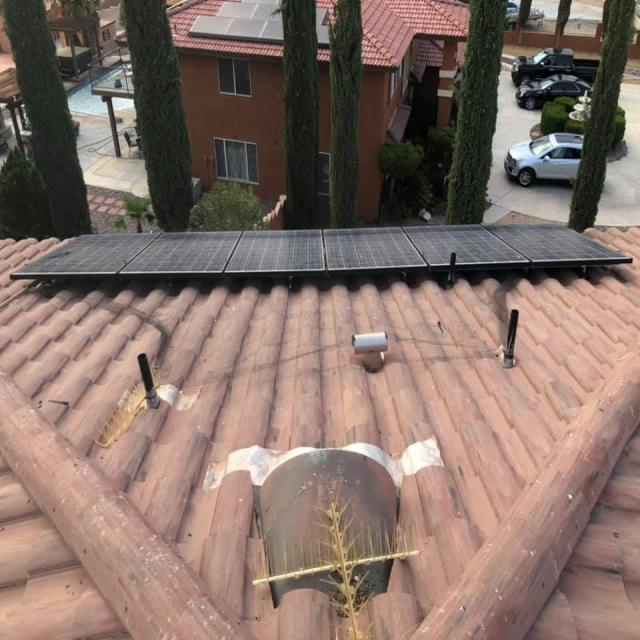dust-solar-panel: (12, 220, 628, 276)
